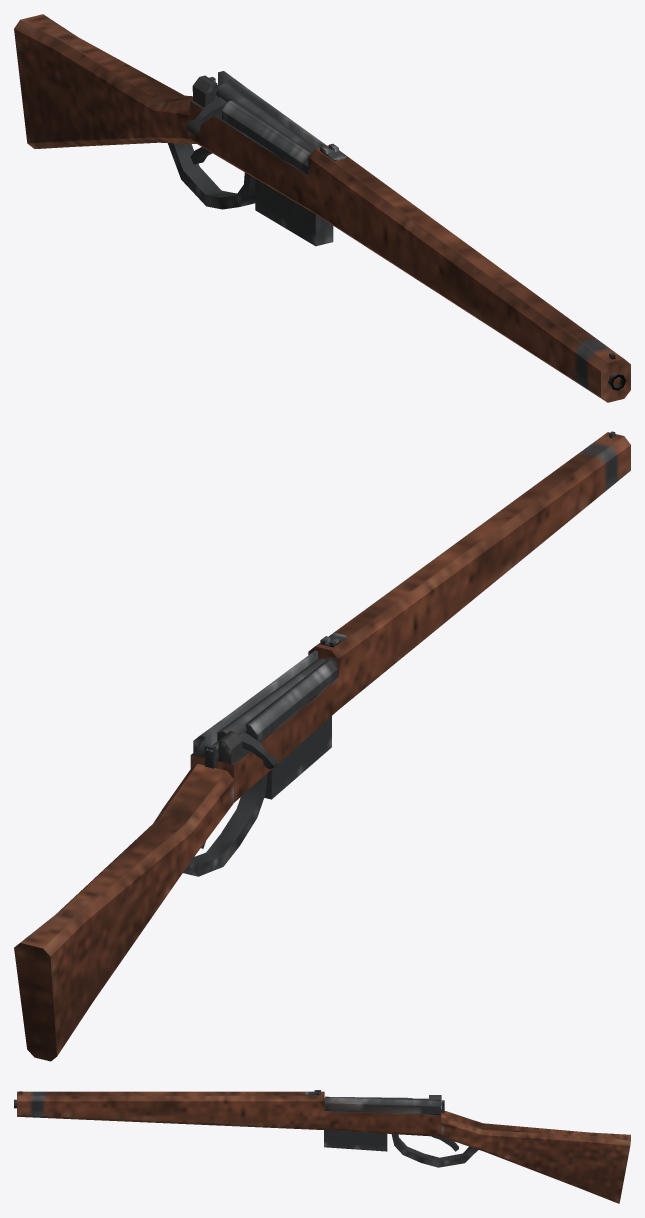
File: Lee-enfield.glb
The picture shows the model from 3 angles, top to bottom: view 1: azimuth 30°, elevation 25°; view 2: azimuth 150°, elevation 25°; view 3: azimuth 270°, elevation 25°; orthographic projection. The views are drawn at different scales.
Visible parts, largest first — view 1: Box001, Cylinder003; view 2: Box001, Cylinder003; view 3: Box001.
Part boxes in pixels (<box>): Box001: <box>14,14,630,402</box>; Cylinder003: <box>186,83,315,152</box>; Box001: <box>14,431,630,1061</box>; Cylinder003: <box>217,658,325,768</box>; Box001: <box>14,1090,630,1203</box>.
Bounding box in the file's own units: 0.0241 × 0.0745 × 0.3779.
1 material, 1 textured.
